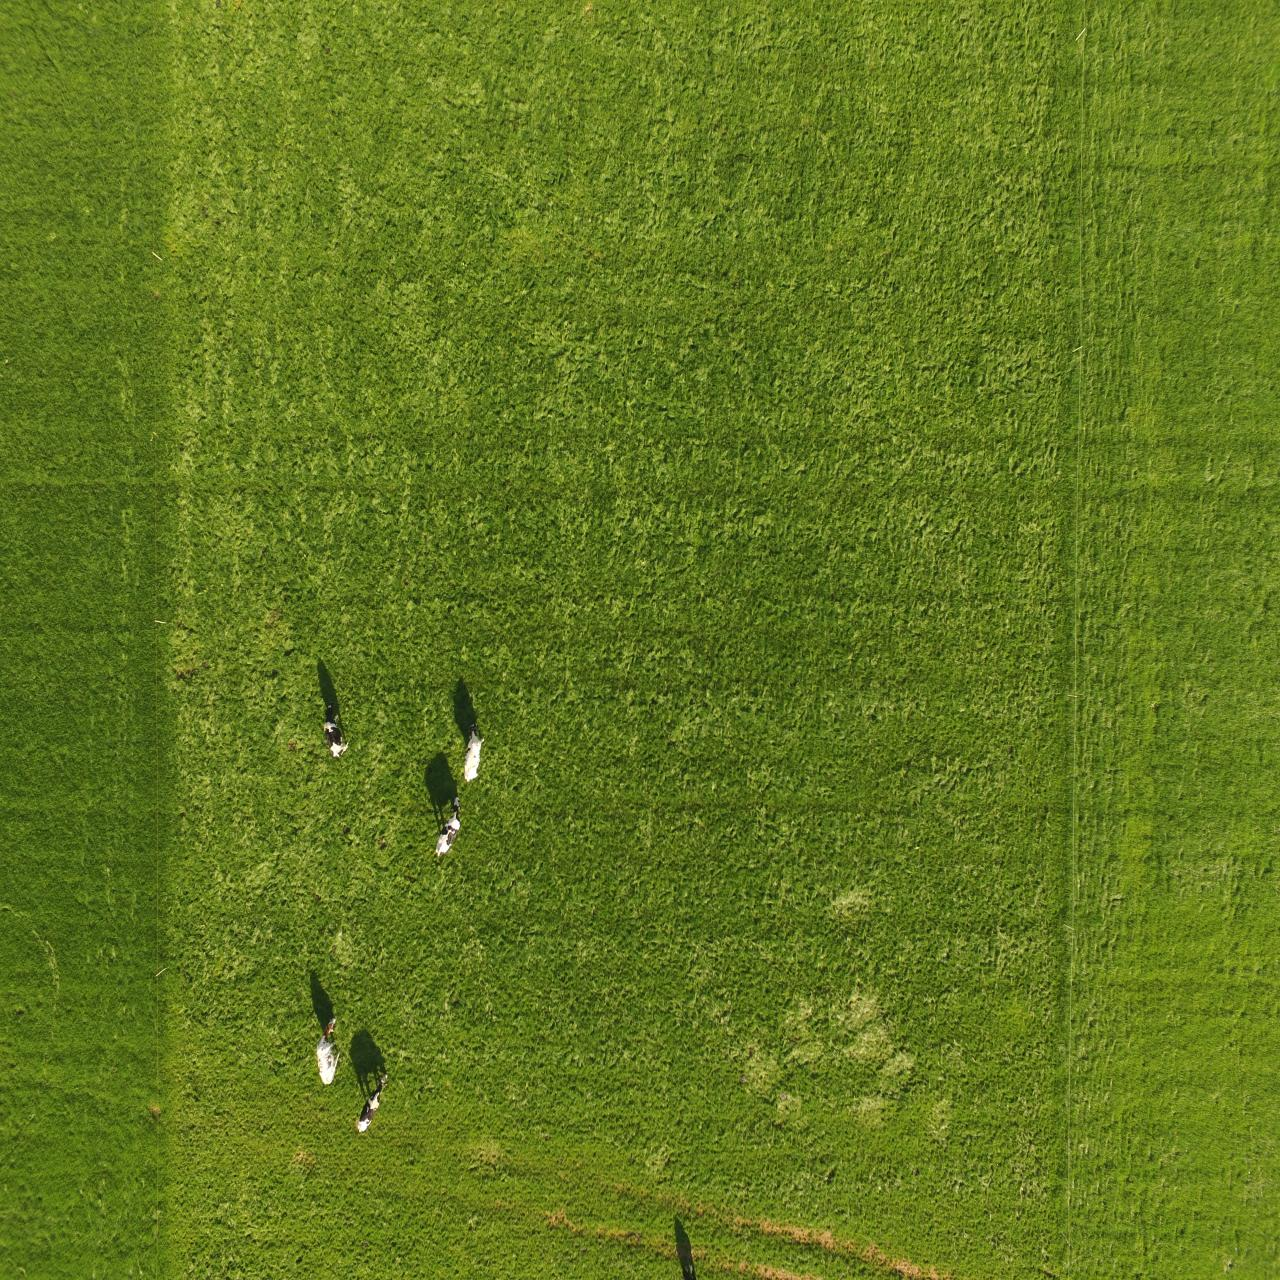cow: (346, 1064, 402, 1138), (309, 702, 355, 762), (312, 1012, 345, 1092), (431, 796, 467, 863), (462, 717, 481, 803)
